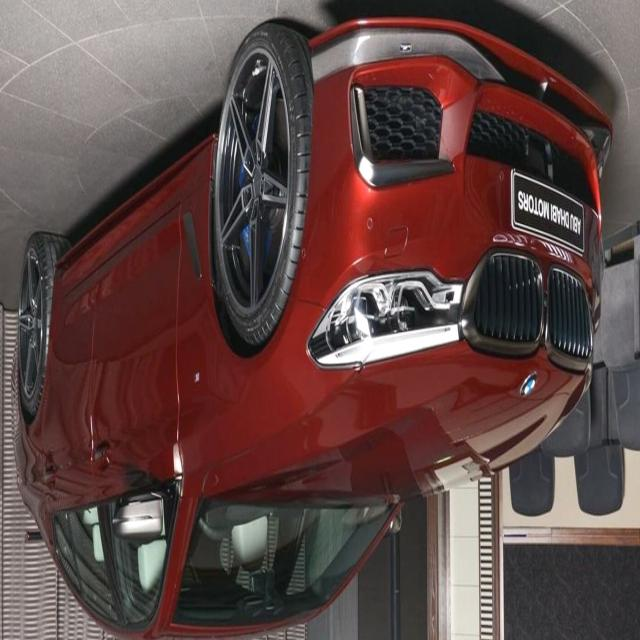red: (12, 87, 604, 638)
